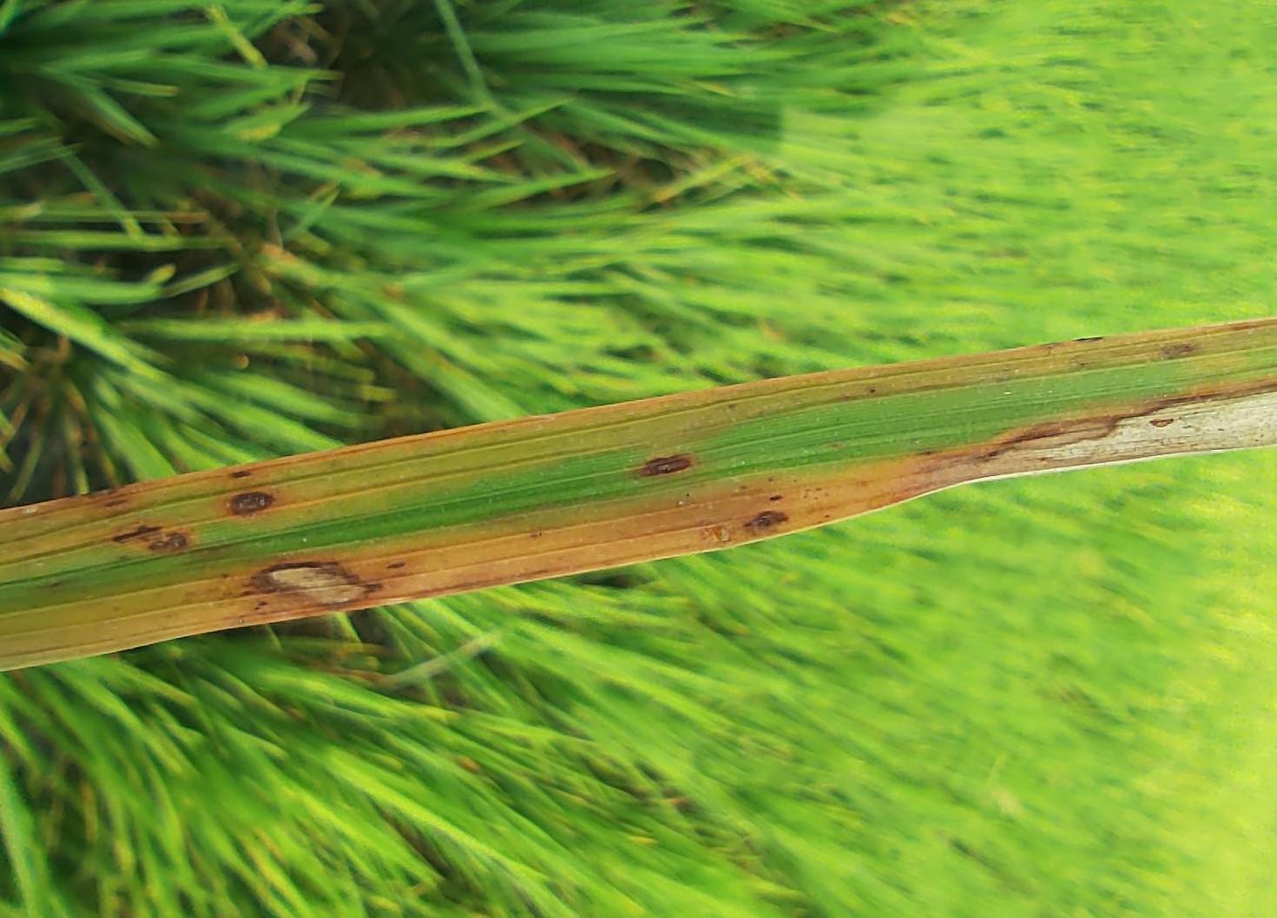LEAF: (0, 318, 1276, 669)
LEAF BLAST: (921, 387, 1275, 494), (240, 561, 388, 611), (638, 453, 694, 477), (228, 491, 276, 515), (113, 524, 164, 544), (147, 532, 188, 551)
